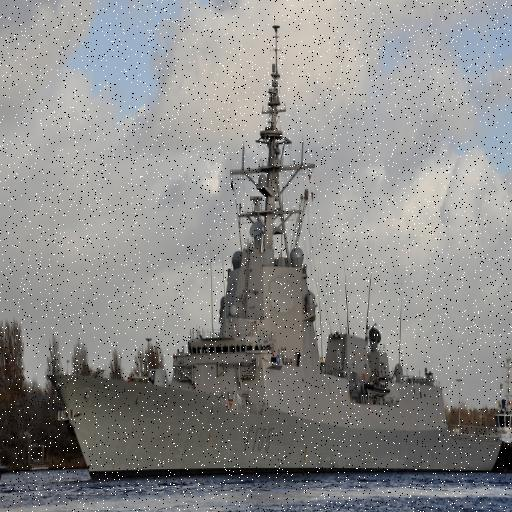Fragata: (49, 6, 512, 491)
